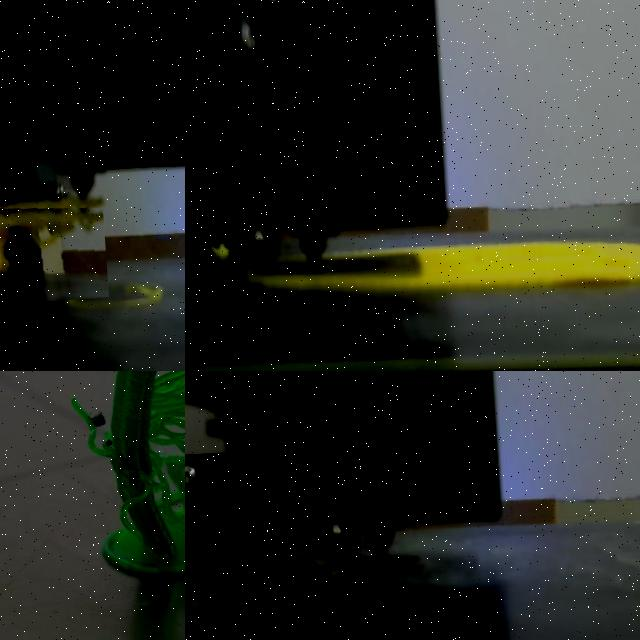spaghetti: (292, 543, 388, 581), (156, 371, 185, 467)
